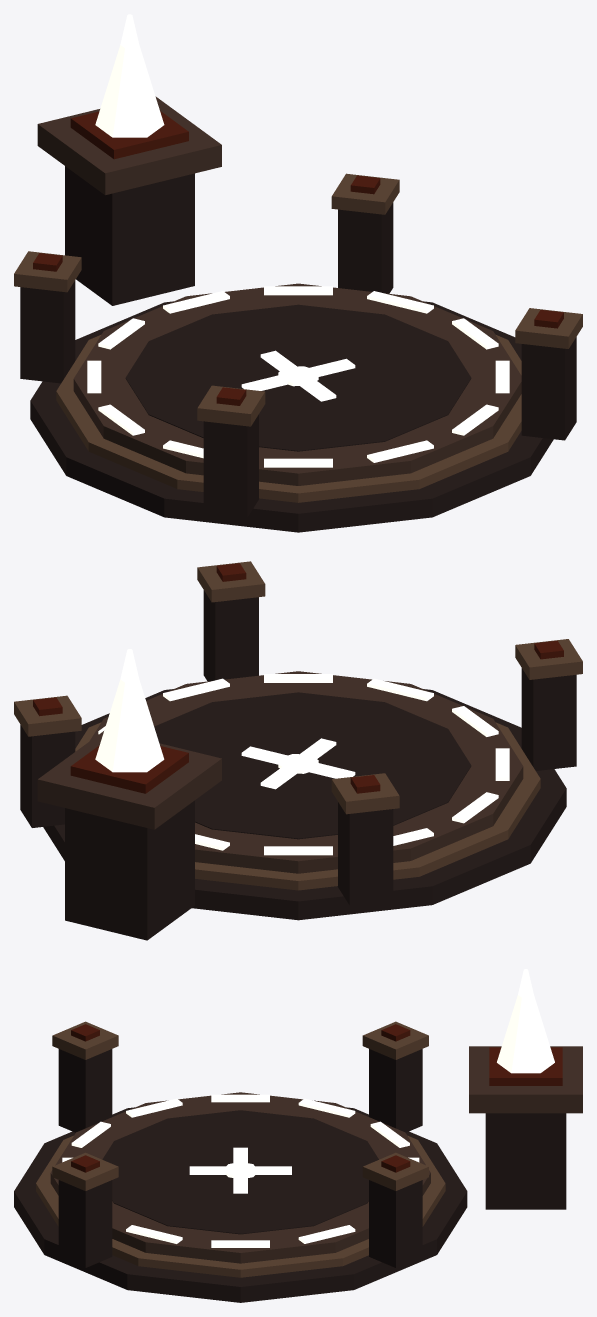
File: checkpoint_shrine_fire.glb
3 views of the same model, one above another, from view 1: azimuth 30°, elevation 25°; view 2: azimuth 150°, elevation 25°; view 3: azimuth 270°, elevation 25° (orthographic). The views are drawn at different scales.
Parts seen in each view (by area): view 1: checkpoint_shrine_fire, Glow, Flame; view 2: checkpoint_shrine_fire, Glow, Flame; view 3: checkpoint_shrine_fire, Glow, Flame.
Boxes of the visible parts, bbox=[...] form: checkpoint_shrine_fire: bbox=[14, 96, 582, 532]; Glow: bbox=[87, 286, 509, 467]; Flame: bbox=[95, 14, 164, 137]; checkpoint_shrine_fire: bbox=[14, 561, 582, 940]; Glow: bbox=[98, 674, 509, 855]; Flame: bbox=[95, 649, 164, 772]; checkpoint_shrine_fire: bbox=[14, 1021, 582, 1302]; Glow: bbox=[62, 1094, 419, 1247]; Flame: bbox=[497, 969, 554, 1073].
Size of the model in its own units: 3.1 by 1.79 by 3.89.
